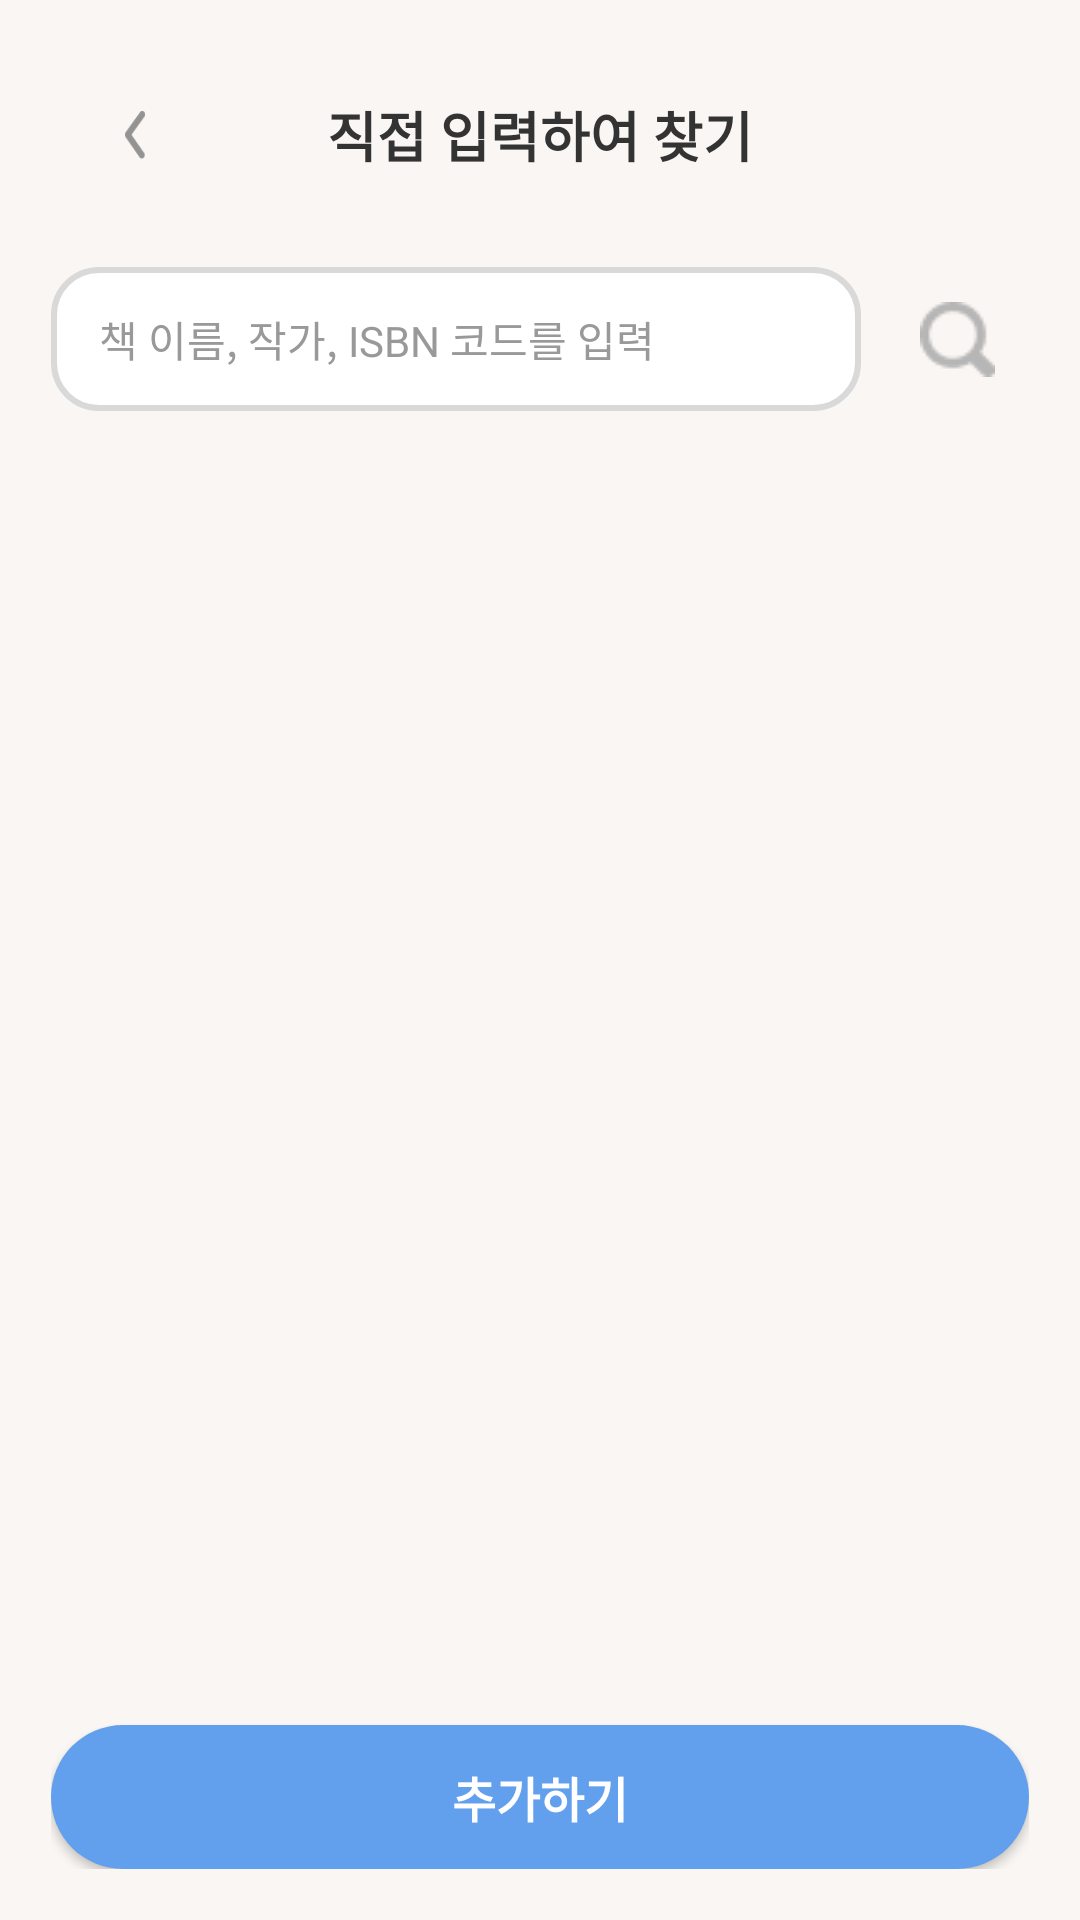

Locate icon controls on the screen. Image size 1080x1920, boxes as box=[x1, y1, x2, y2].
arrow back: box=[125, 111, 145, 159]
search: box=[920, 302, 995, 377]
